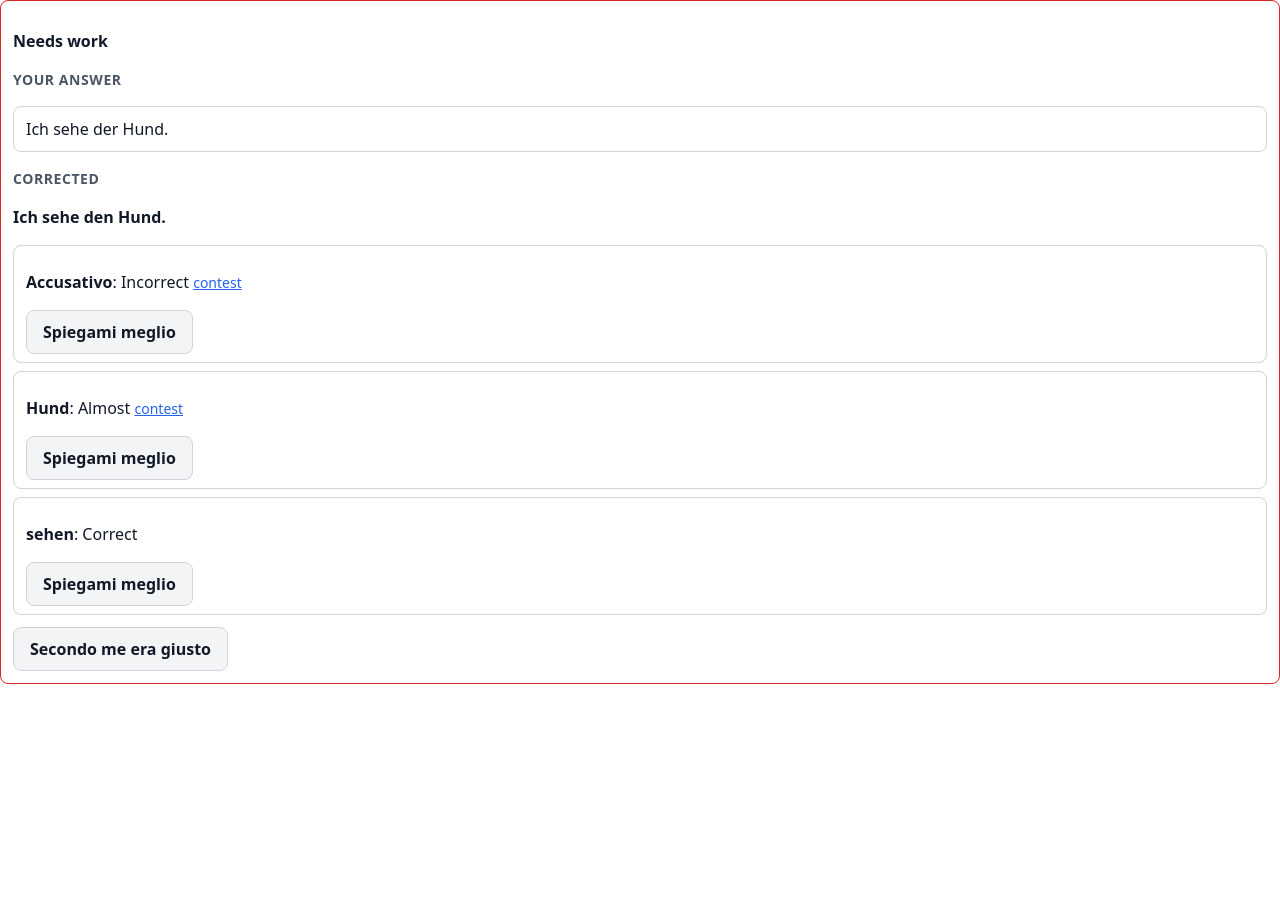
it: contest: production feedback › contests a single item and updates only its outcome
The image size is (1280, 900).
Click the button with aria-label "Contest Accusativo": coordinates (218, 282) [193,272,242,293]
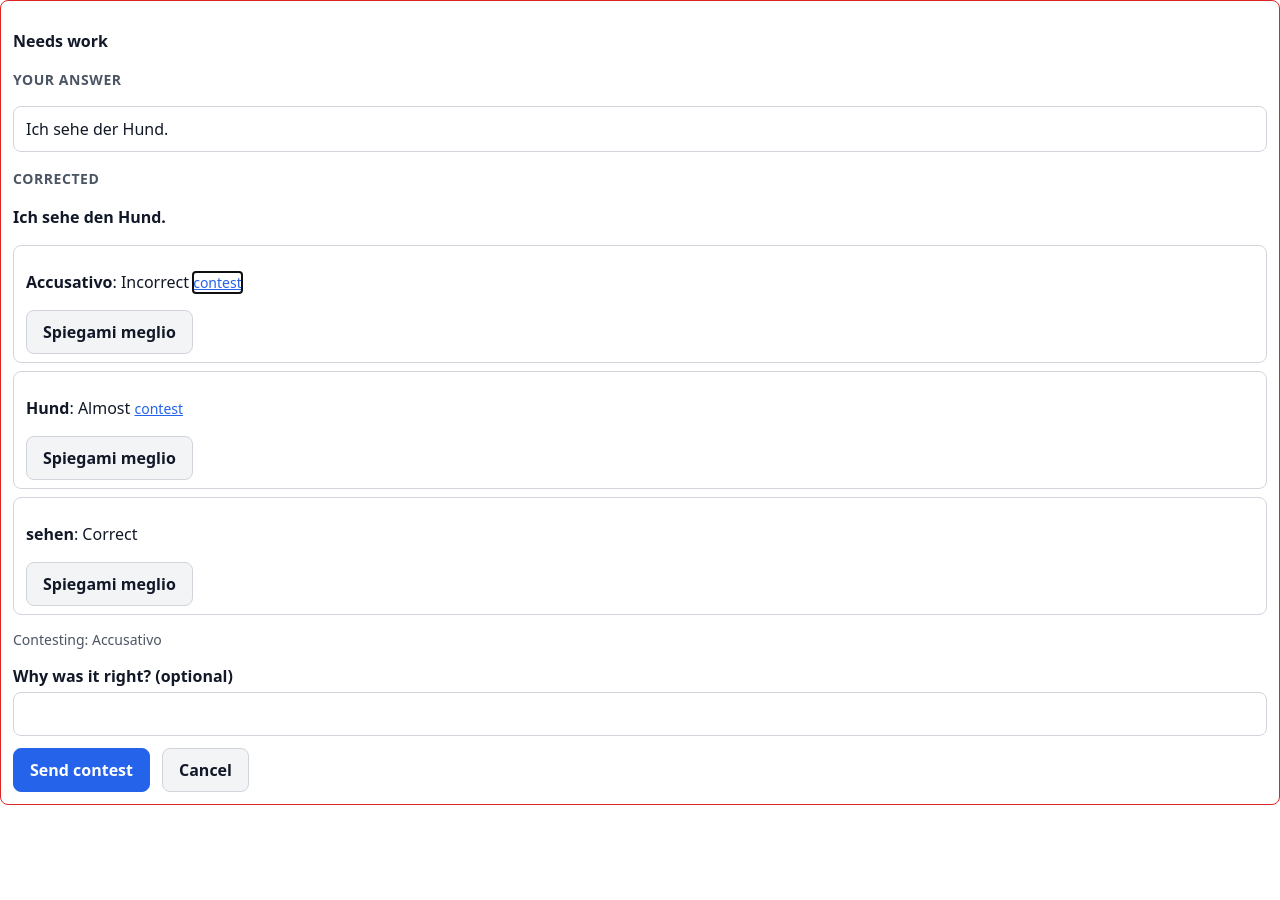
Expected: the text "Contesting: Accusativo" is shown, [13,630,162,649]
Click the button "Send contest": coordinates (82, 770) [13,748,150,792]
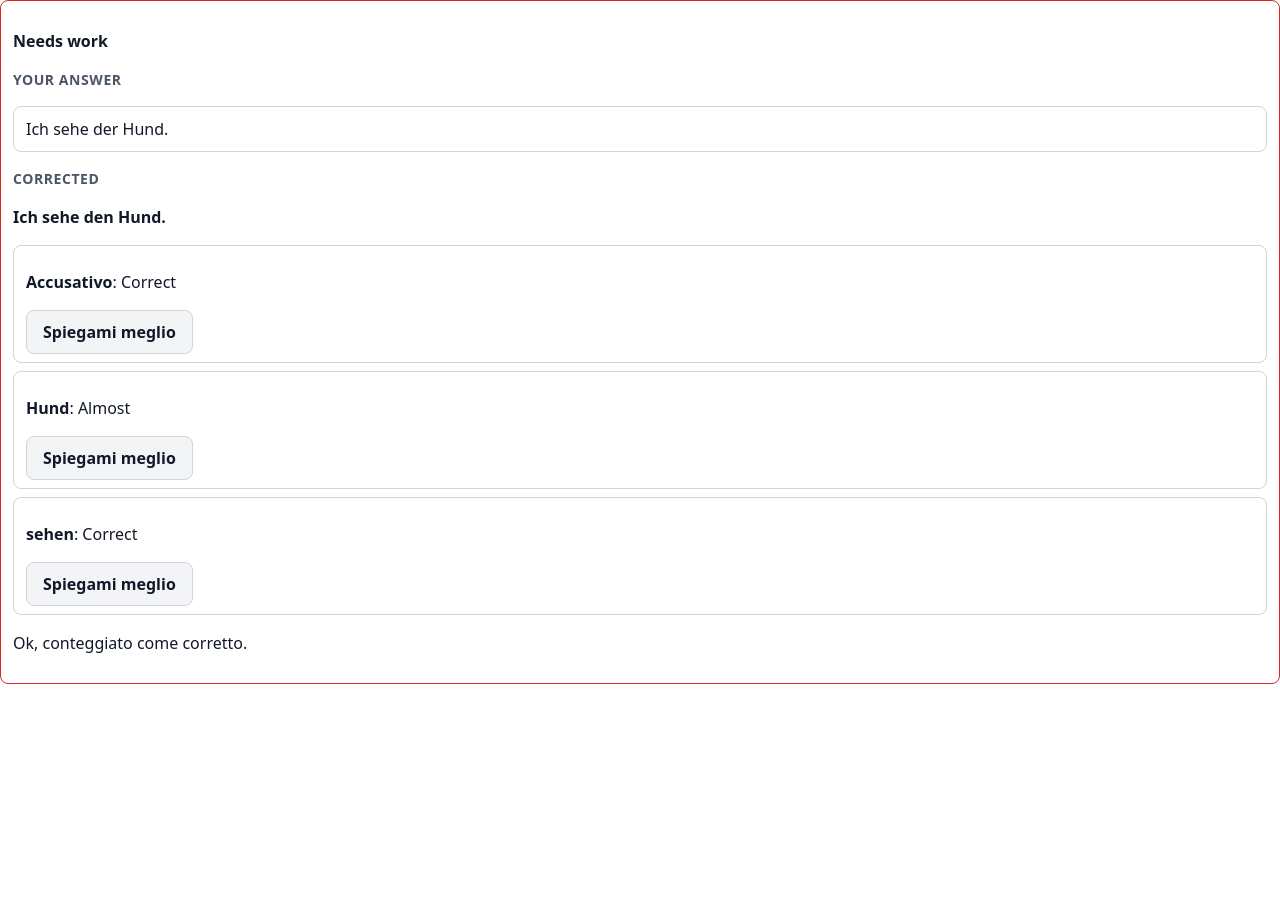
Expected: the text "Needs work" is shown, [13,30,108,52]
Expected: the text "Ok, conteggiato come corretto." is shown, [13,632,247,654]
Expected: the element showing "Accusativo: Correct" is shown, [26,271,176,293]
